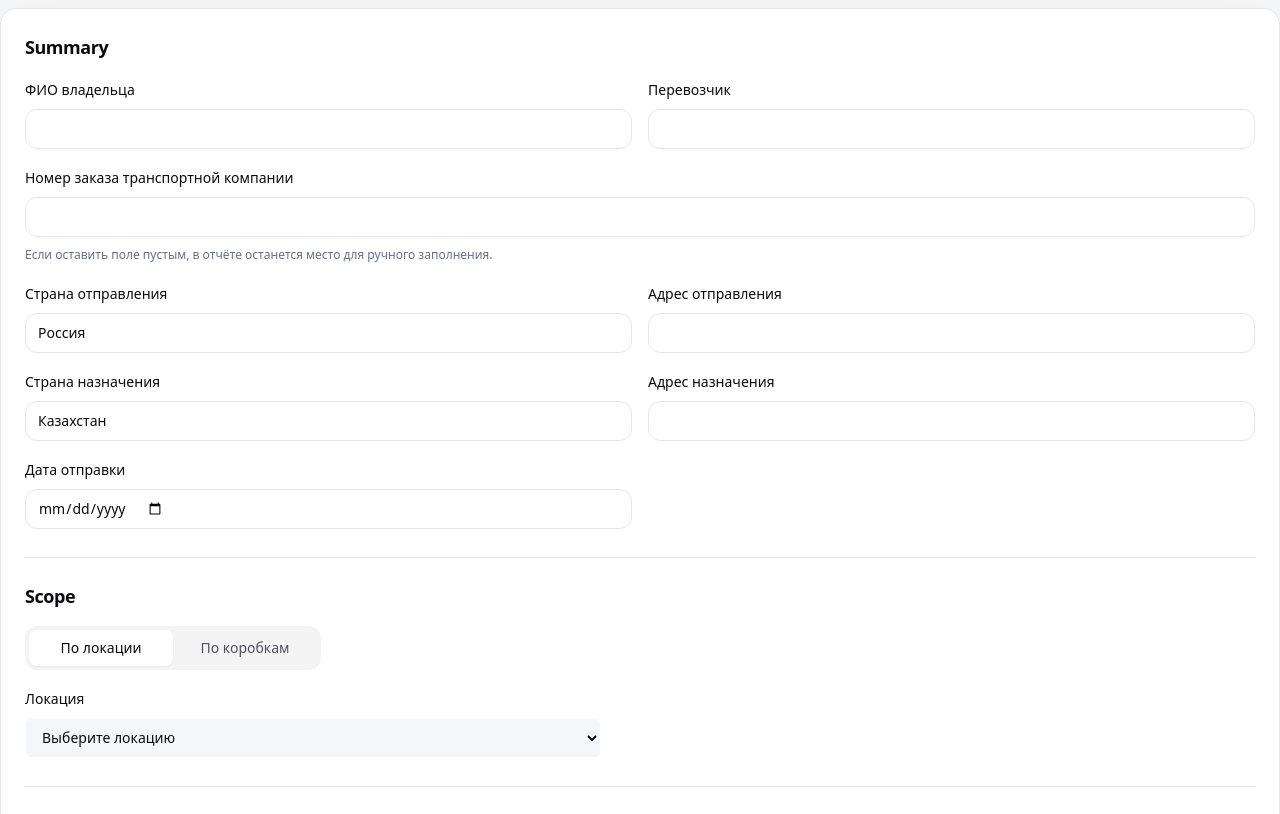
Test: server validation error keeps the selected scope and form values
In the field labelled "ФИО владельца": (328, 129) [25,109,632,149], type "Иван Иванов"
In the field labelled "Перевозчик": (952, 129) [648,109,1255,149], type "ТК"
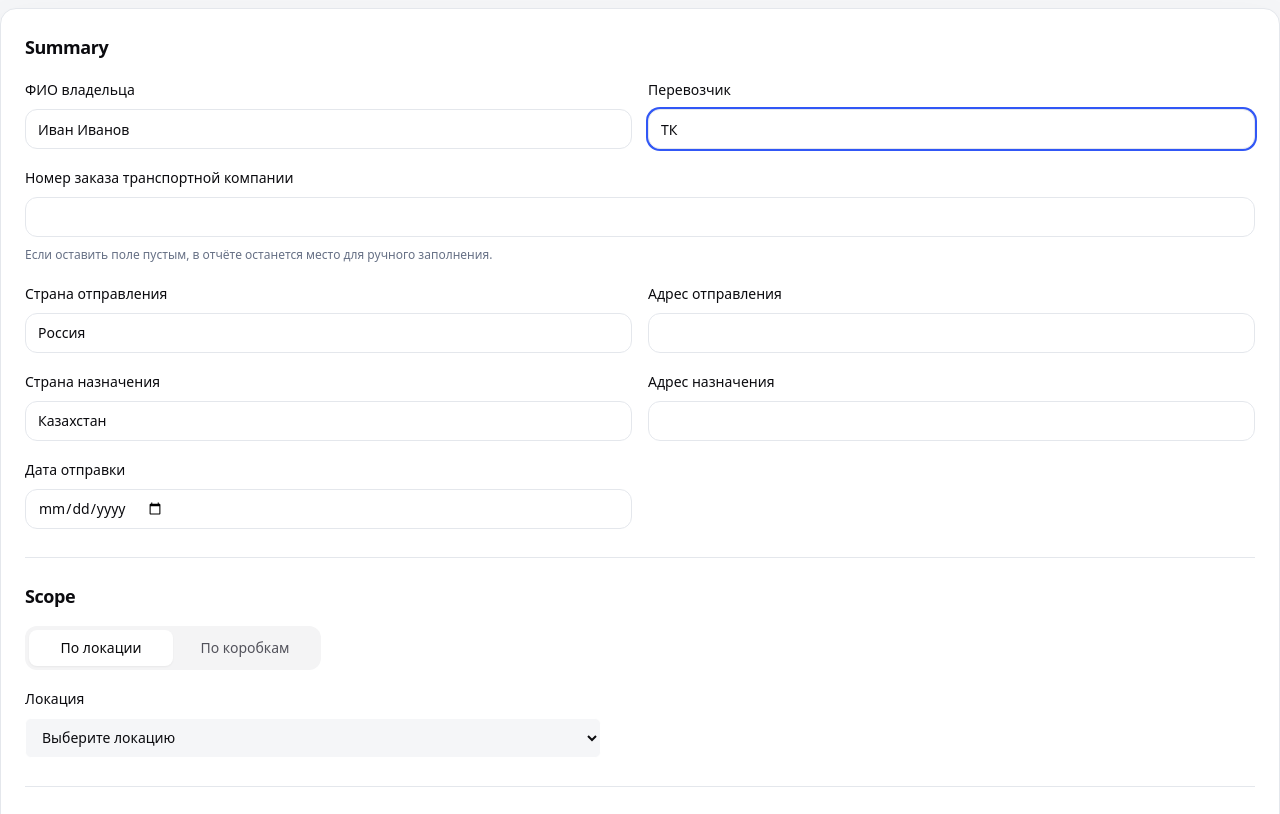
In the field labelled "Адрес отправления": (952, 332) [648,312,1255,352], type "Москва"
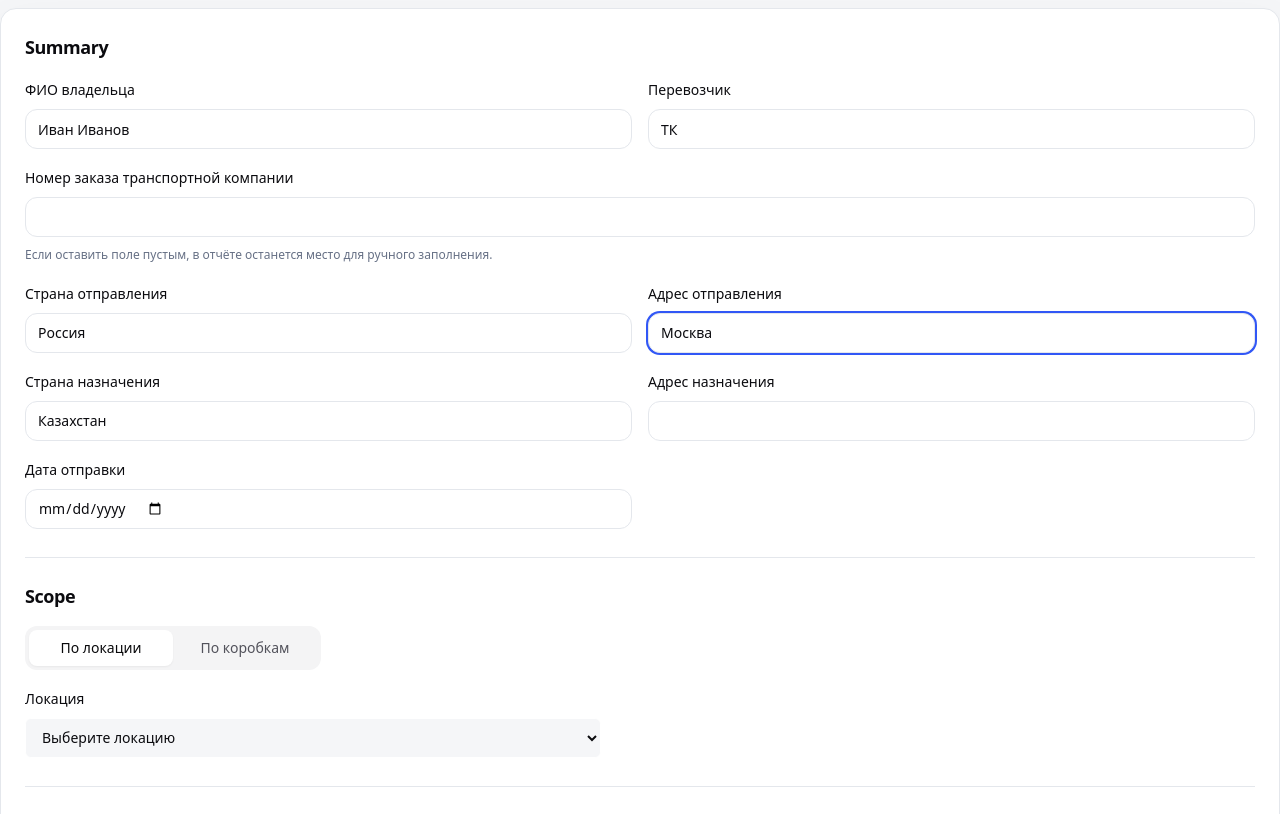
In the field labelled "Адрес назначения": (952, 420) [648,400,1255,440], type "Алматы"
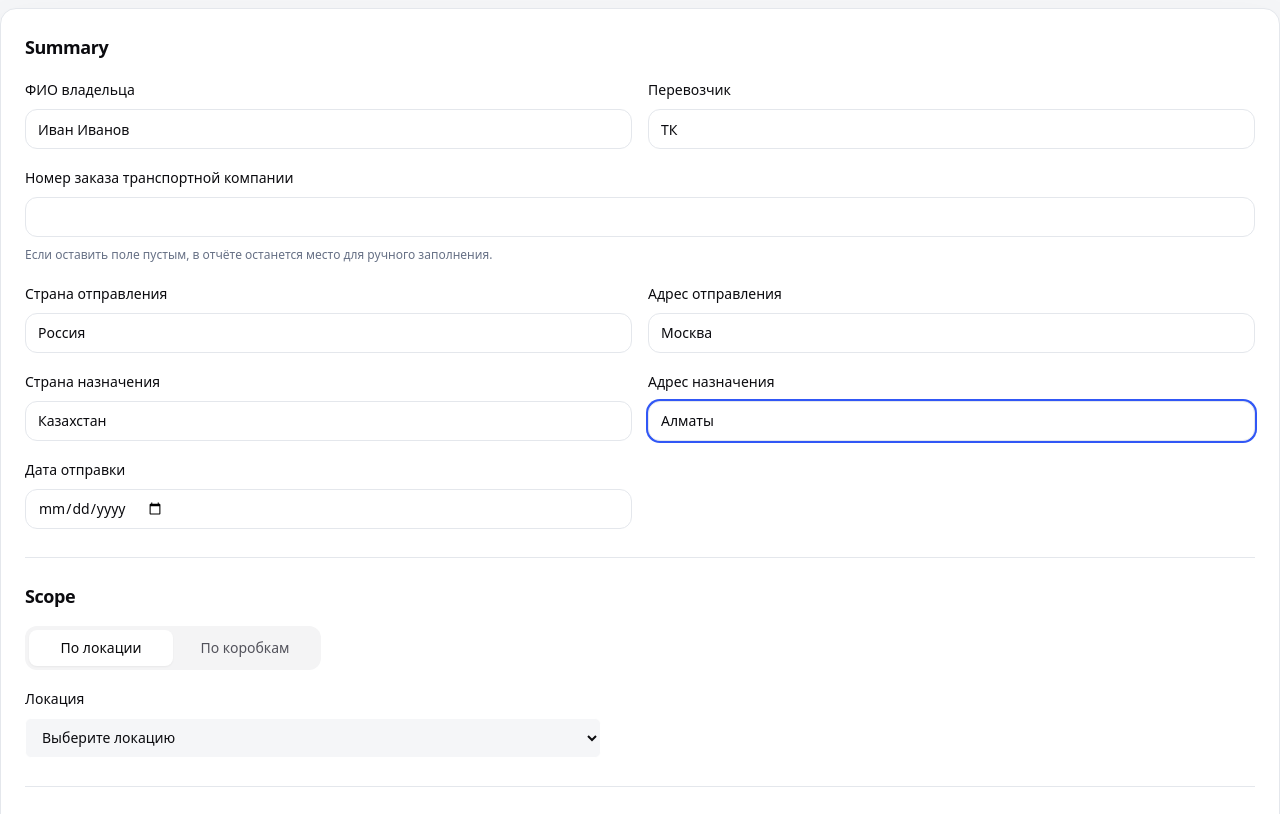
In the date field labelled "Дата отправки": (328, 508) [25,488,632,528], type "2026-08-01"
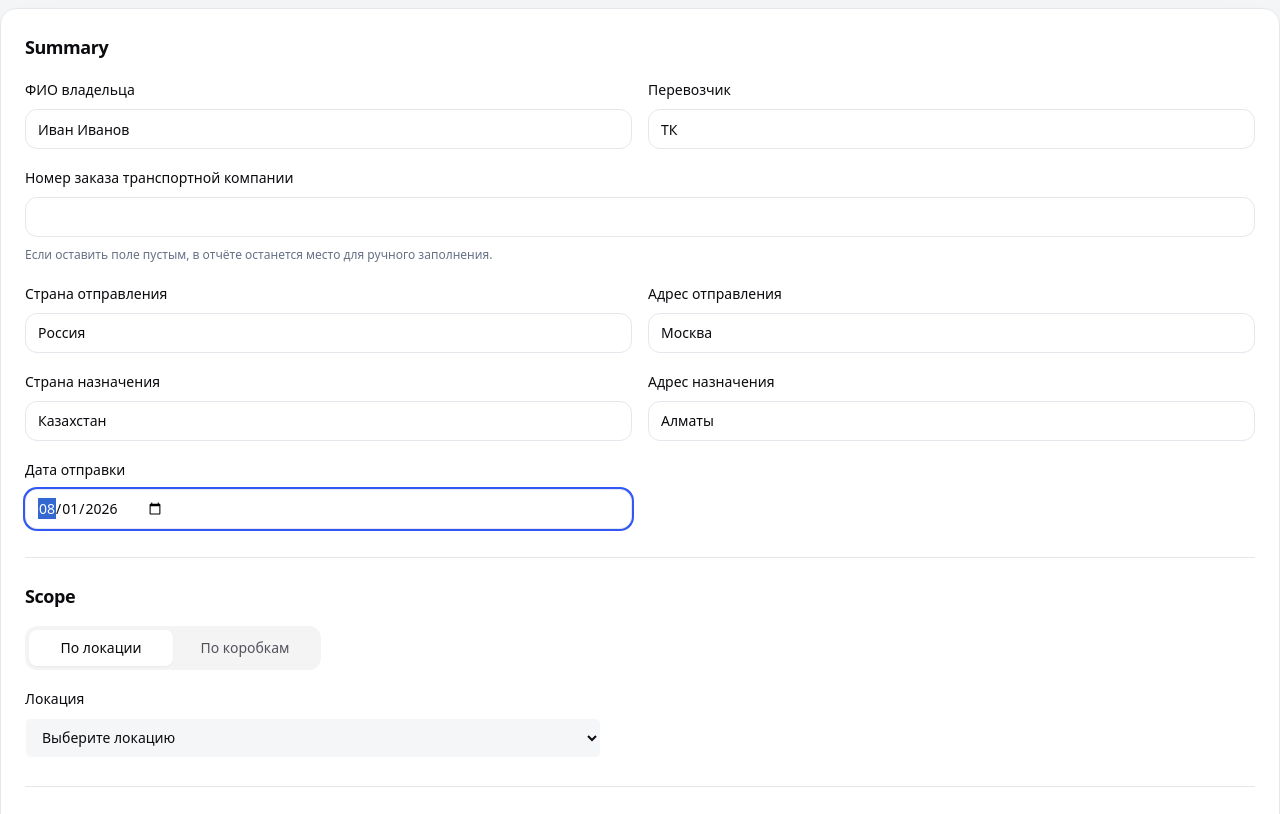
Select "Россия / Москва / Кладовая" in the dropdown labelled "Локация": (313, 738) [25,718,601,758]
(page scrolled)
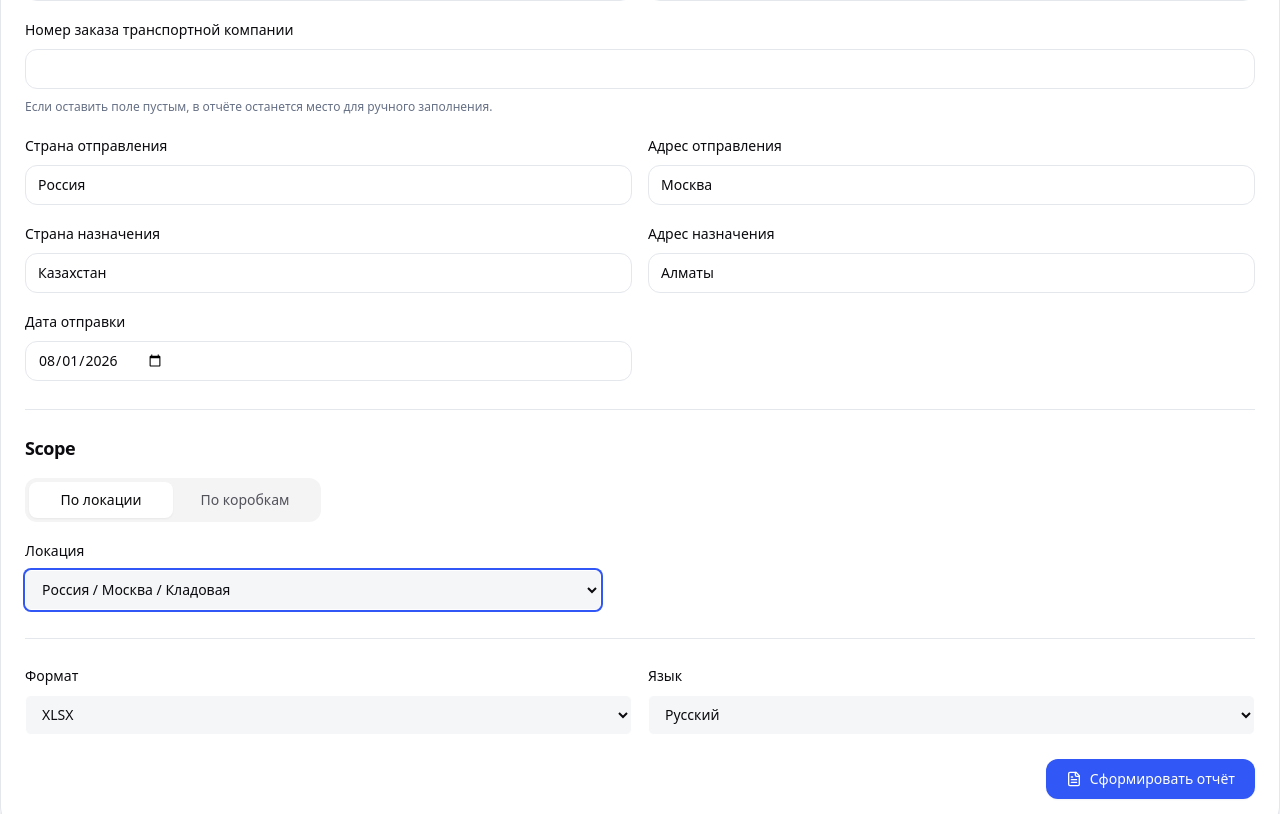
Click the button "Сформировать отчёт": (1150, 778) [1046,758,1255,798]
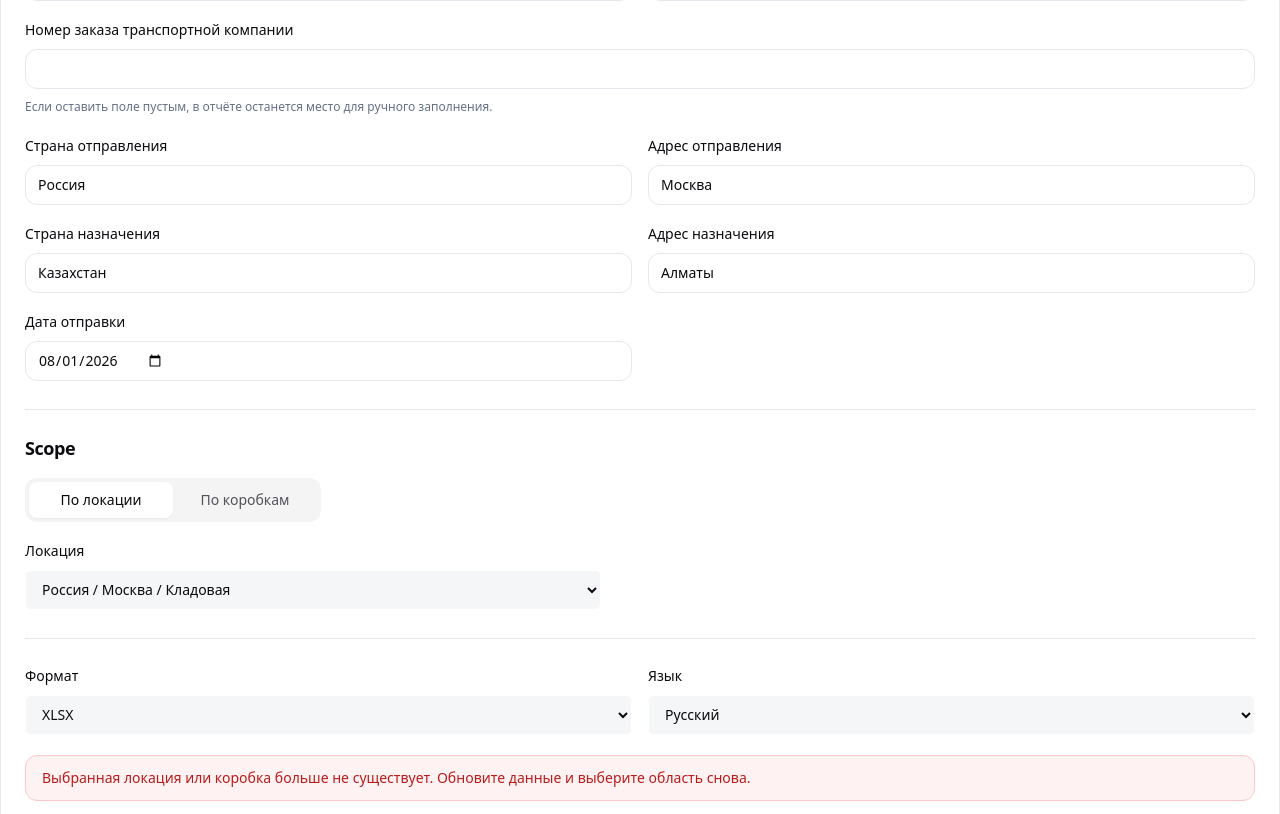
Expected: the message shows "больше не существует", [42,768,750,786]
